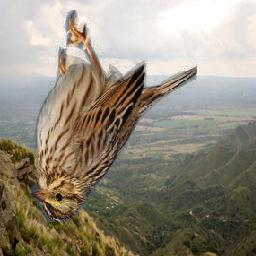Sparrow: (31, 10, 198, 222)
